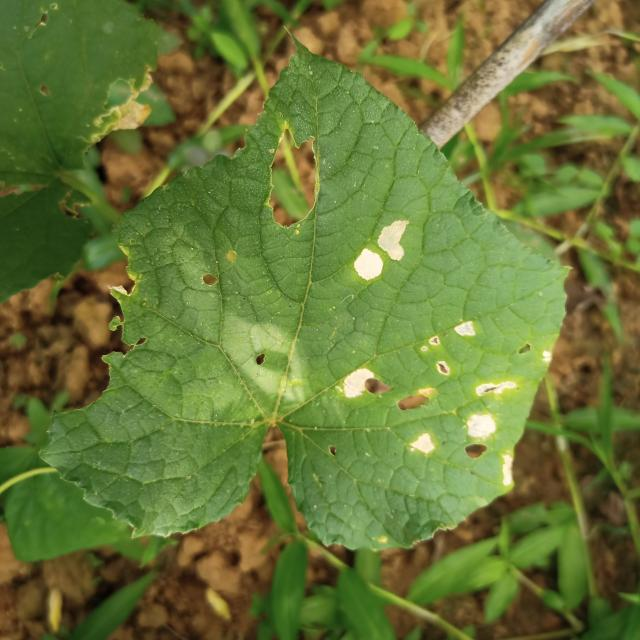disease_cucumber: (342, 320, 552, 488), (351, 218, 408, 278)
